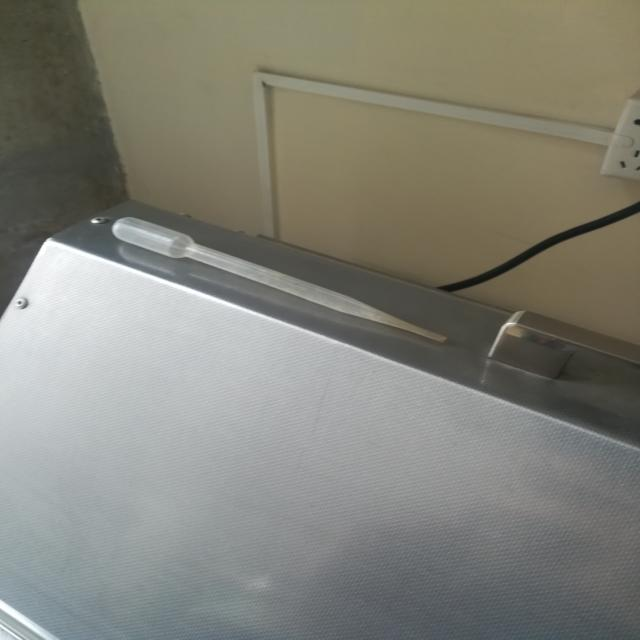Pipette: (89, 189, 486, 376)
